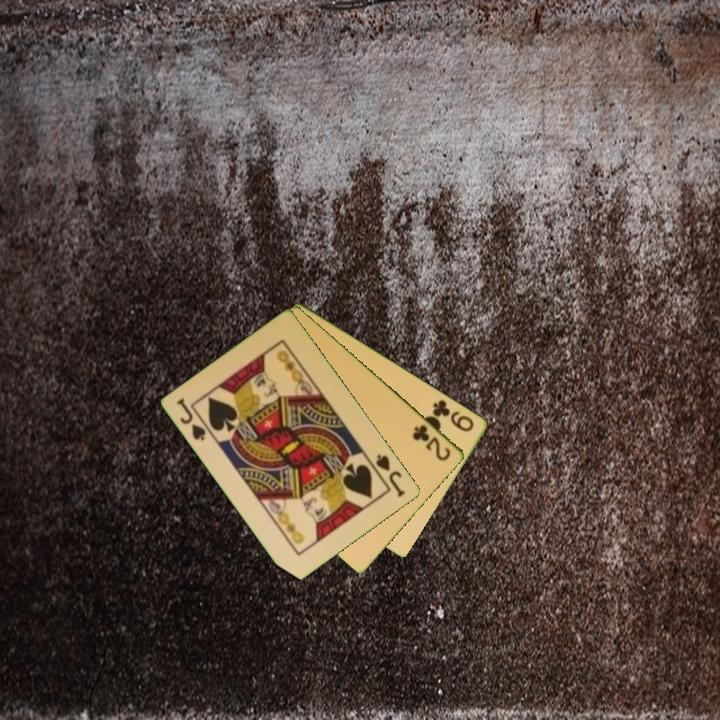2c: (409, 421, 454, 464)
9c: (429, 396, 477, 435)
Js: (372, 451, 409, 500), (173, 394, 209, 444)
